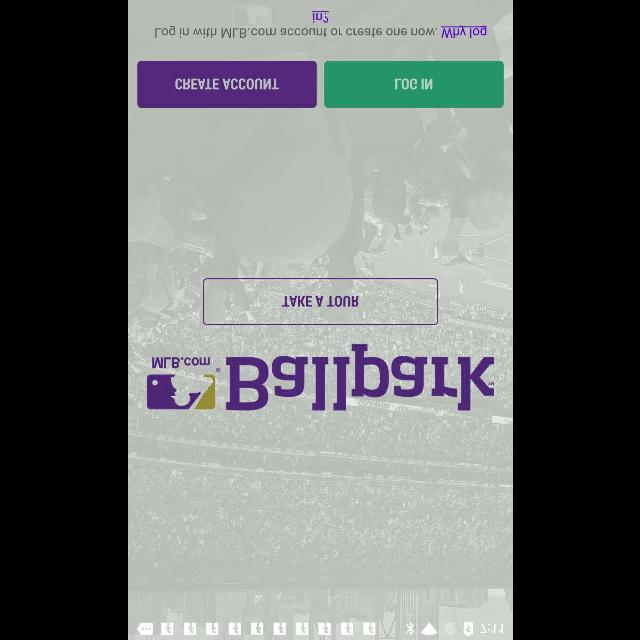image: (146, 341, 496, 411)
text: (154, 12, 486, 38)
textbutton: (202, 278, 438, 324), (323, 61, 503, 108), (136, 61, 316, 108)
uppertaskbar: (128, 621, 512, 639)
